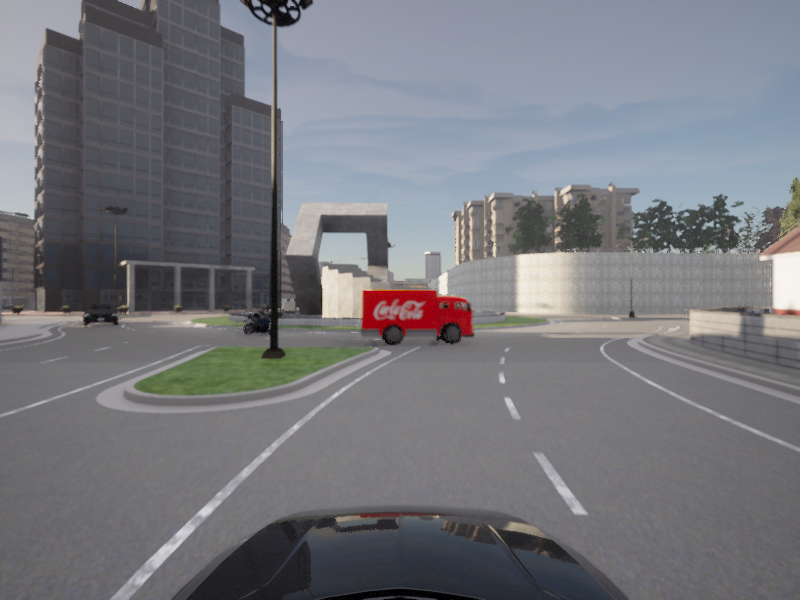vehicle: (359, 289, 478, 346), (238, 308, 282, 336), (82, 303, 119, 327)
